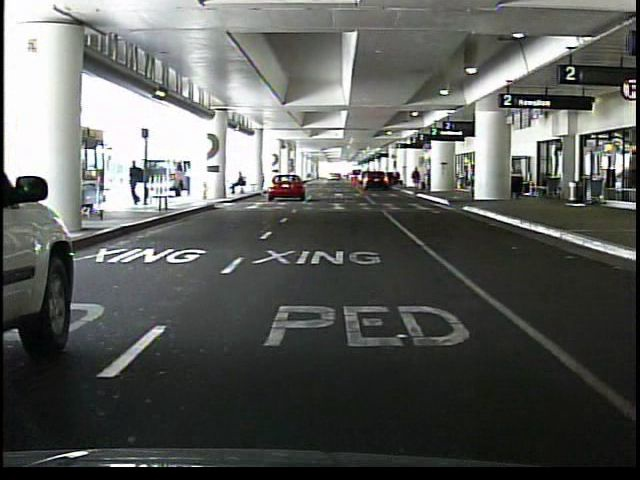person: (130, 160, 146, 207), (230, 171, 248, 195), (412, 165, 423, 193), (469, 162, 477, 200)
